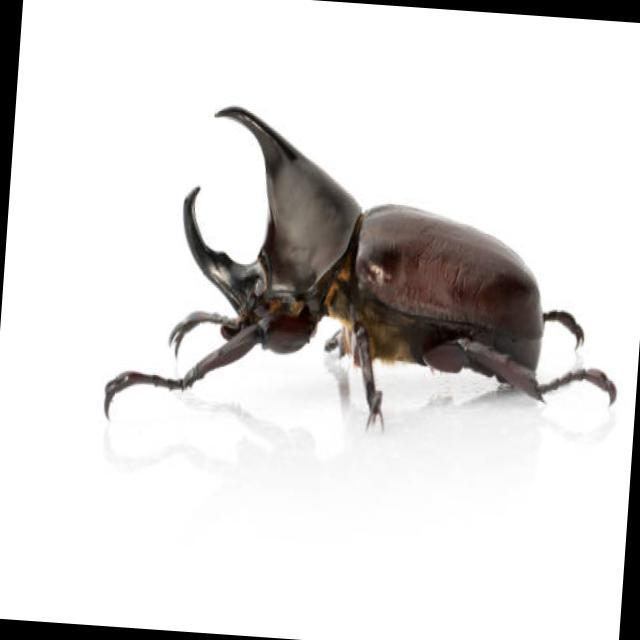Rhino-beetle: (96, 102, 582, 467)
